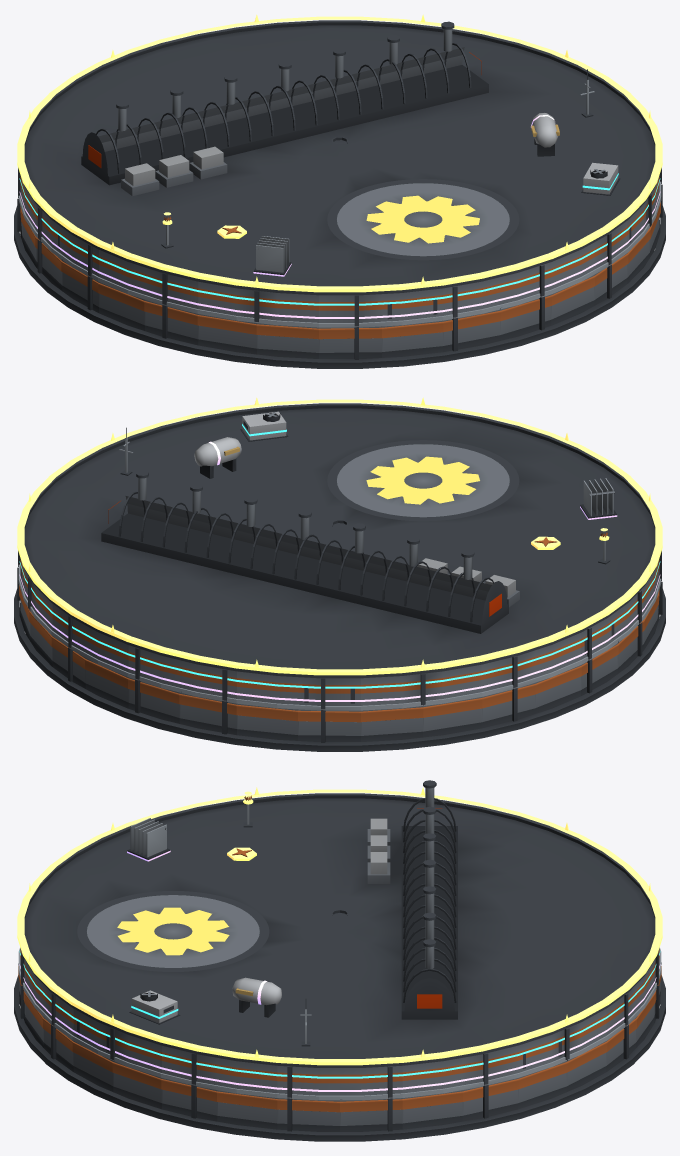
File: ceramics_kiln_xl_far.glb
The picture shows the model from 3 angles, top to bottom: view 1: azimuth 30°, elevation 25°; view 2: azimuth 150°, elevation 25°; view 3: azimuth 270°, elevation 25°; orthographic projection.
Parts seen in each view (by area): view 1: Roof, Base, L5, L4, L2, L3; view 2: Roof, Base, L5, L4, L2, L3; view 3: Roof, Base, L5, L4, L2, L3.
Boxes of the visible parts, x1,y1,x2,y2 form: Roof: [18, 20, 661, 326]; Base: [14, 184, 665, 368]; L5: [17, 14, 662, 292]; L4: [19, 112, 660, 318]; L2: [18, 69, 661, 327]; L3: [19, 137, 660, 305]; Roof: [18, 403, 661, 709]; Base: [14, 567, 665, 751]; L5: [17, 397, 662, 675]; L4: [19, 437, 660, 701]; L2: [18, 427, 661, 710]; L3: [19, 411, 660, 688]; Roof: [20, 780, 659, 1097]; Base: [14, 962, 665, 1141]; L5: [17, 787, 662, 1065]; L4: [19, 818, 660, 1091]; L2: [18, 947, 661, 1100]; L3: [19, 909, 660, 1078].
Bounding box in the file's own units: 23.15 × 5.35 × 23.15.
